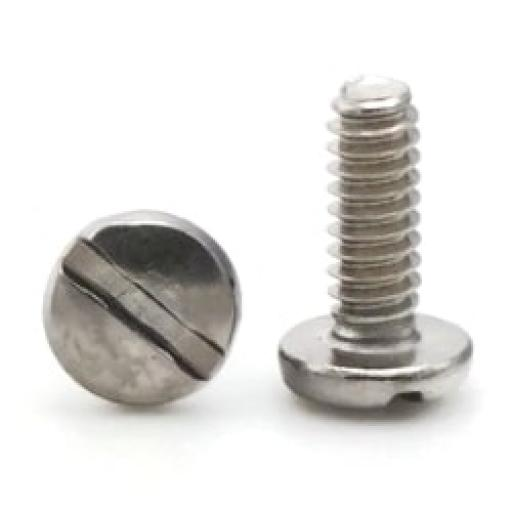Slotted: (44, 213, 238, 416)
